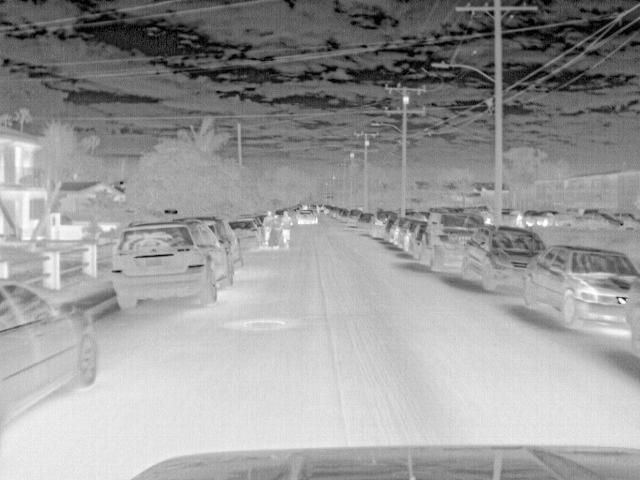car: (1, 276, 100, 435), (110, 218, 237, 311), (525, 248, 637, 328), (462, 226, 547, 291), (419, 209, 487, 272), (197, 218, 244, 270), (227, 220, 263, 252), (581, 211, 627, 230), (370, 211, 396, 239), (408, 223, 427, 261), (403, 219, 420, 253), (396, 218, 414, 250), (388, 215, 406, 243), (295, 210, 323, 226), (349, 207, 365, 223)
person: (278, 210, 294, 247), (270, 210, 285, 248), (262, 208, 275, 248)
